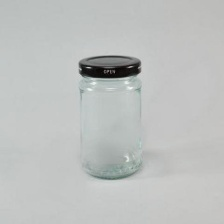bottle: (71, 46, 153, 187)
